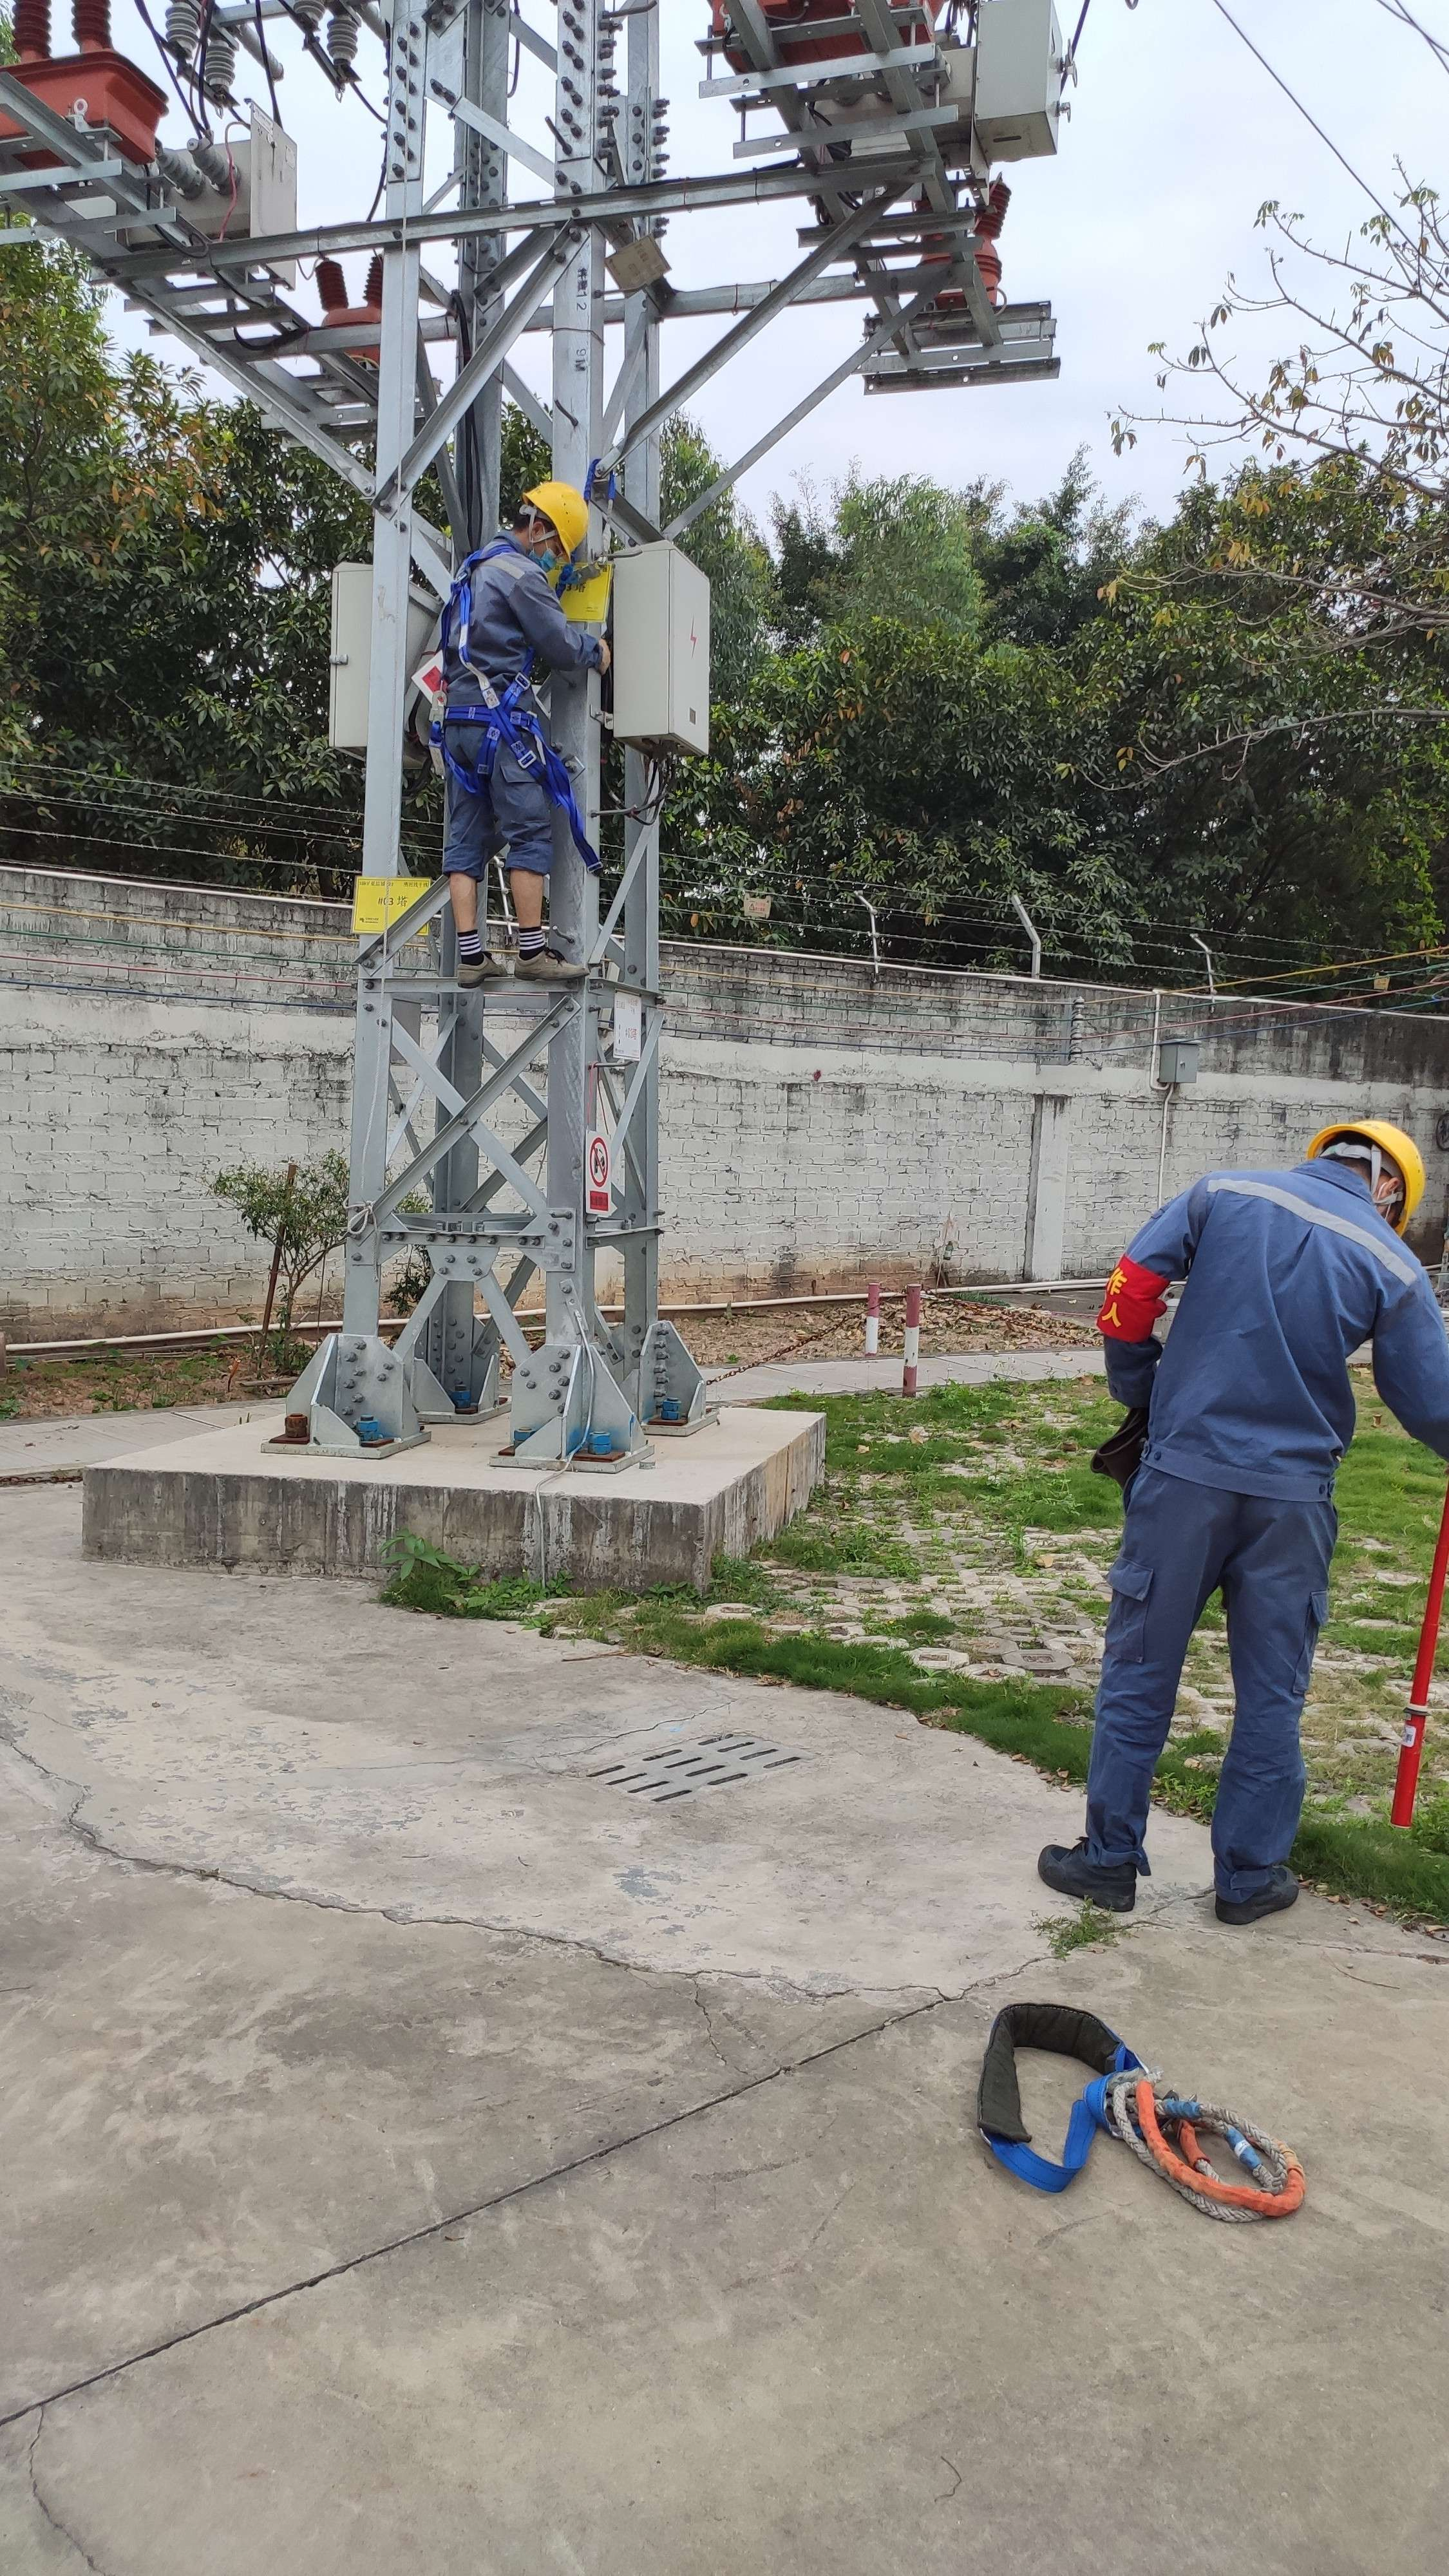downsuit: (1076, 1509, 1352, 1881), (435, 727, 568, 878)
upsuit: (1106, 1168, 1442, 1481), (435, 541, 575, 685)
wrongbottom: (428, 847, 495, 943), (501, 846, 556, 947)
